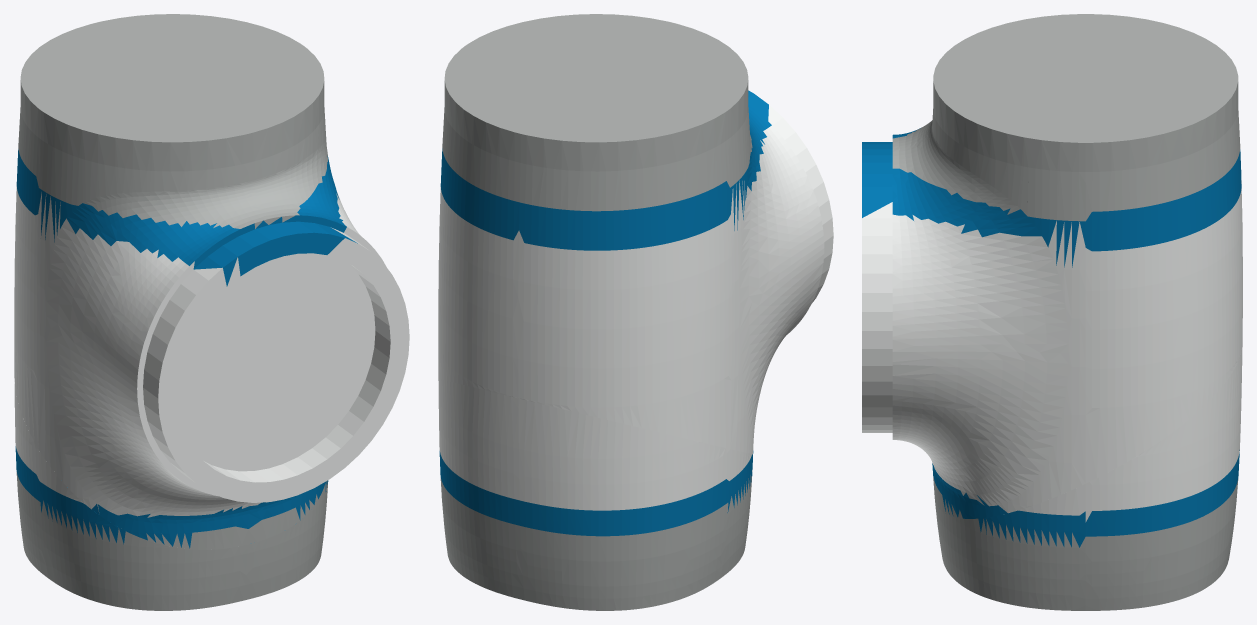
The model's file is DobotCR16Link4.dae.
The picture shows the model from 3 angles, left to right: view 1: azimuth 30°, elevation 25°; view 2: azimuth 150°, elevation 25°; view 3: azimuth 270°, elevation 25°; orthographic projection.
Visible parts, largest first — view 1: DobotCR16Link4; view 2: DobotCR16Link4; view 3: DobotCR16Link4.
Part boxes in pixels (left/top/right/bottom): DobotCR16Link4: left=14, top=14, right=409, bottom=610; DobotCR16Link4: left=438, top=14, right=833, bottom=610; DobotCR16Link4: left=862, top=14, right=1242, bottom=610.
Bounding box in the file's own units: 0.0927 × 0.1124 × 0.1565.
